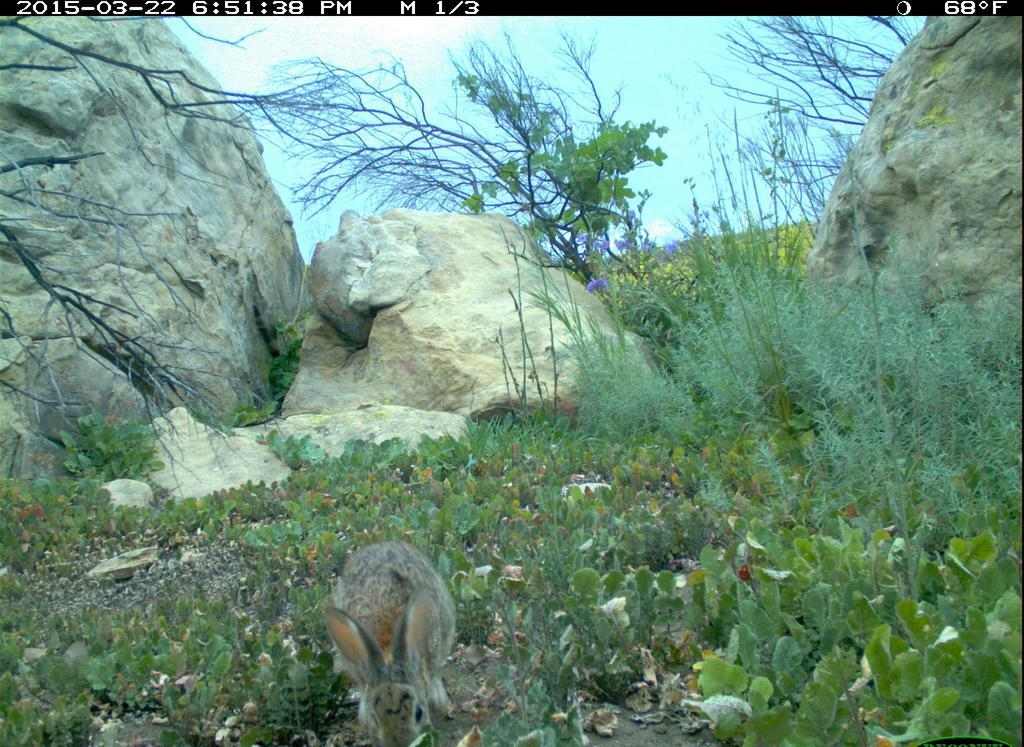rabbit: (310, 530, 474, 742)
